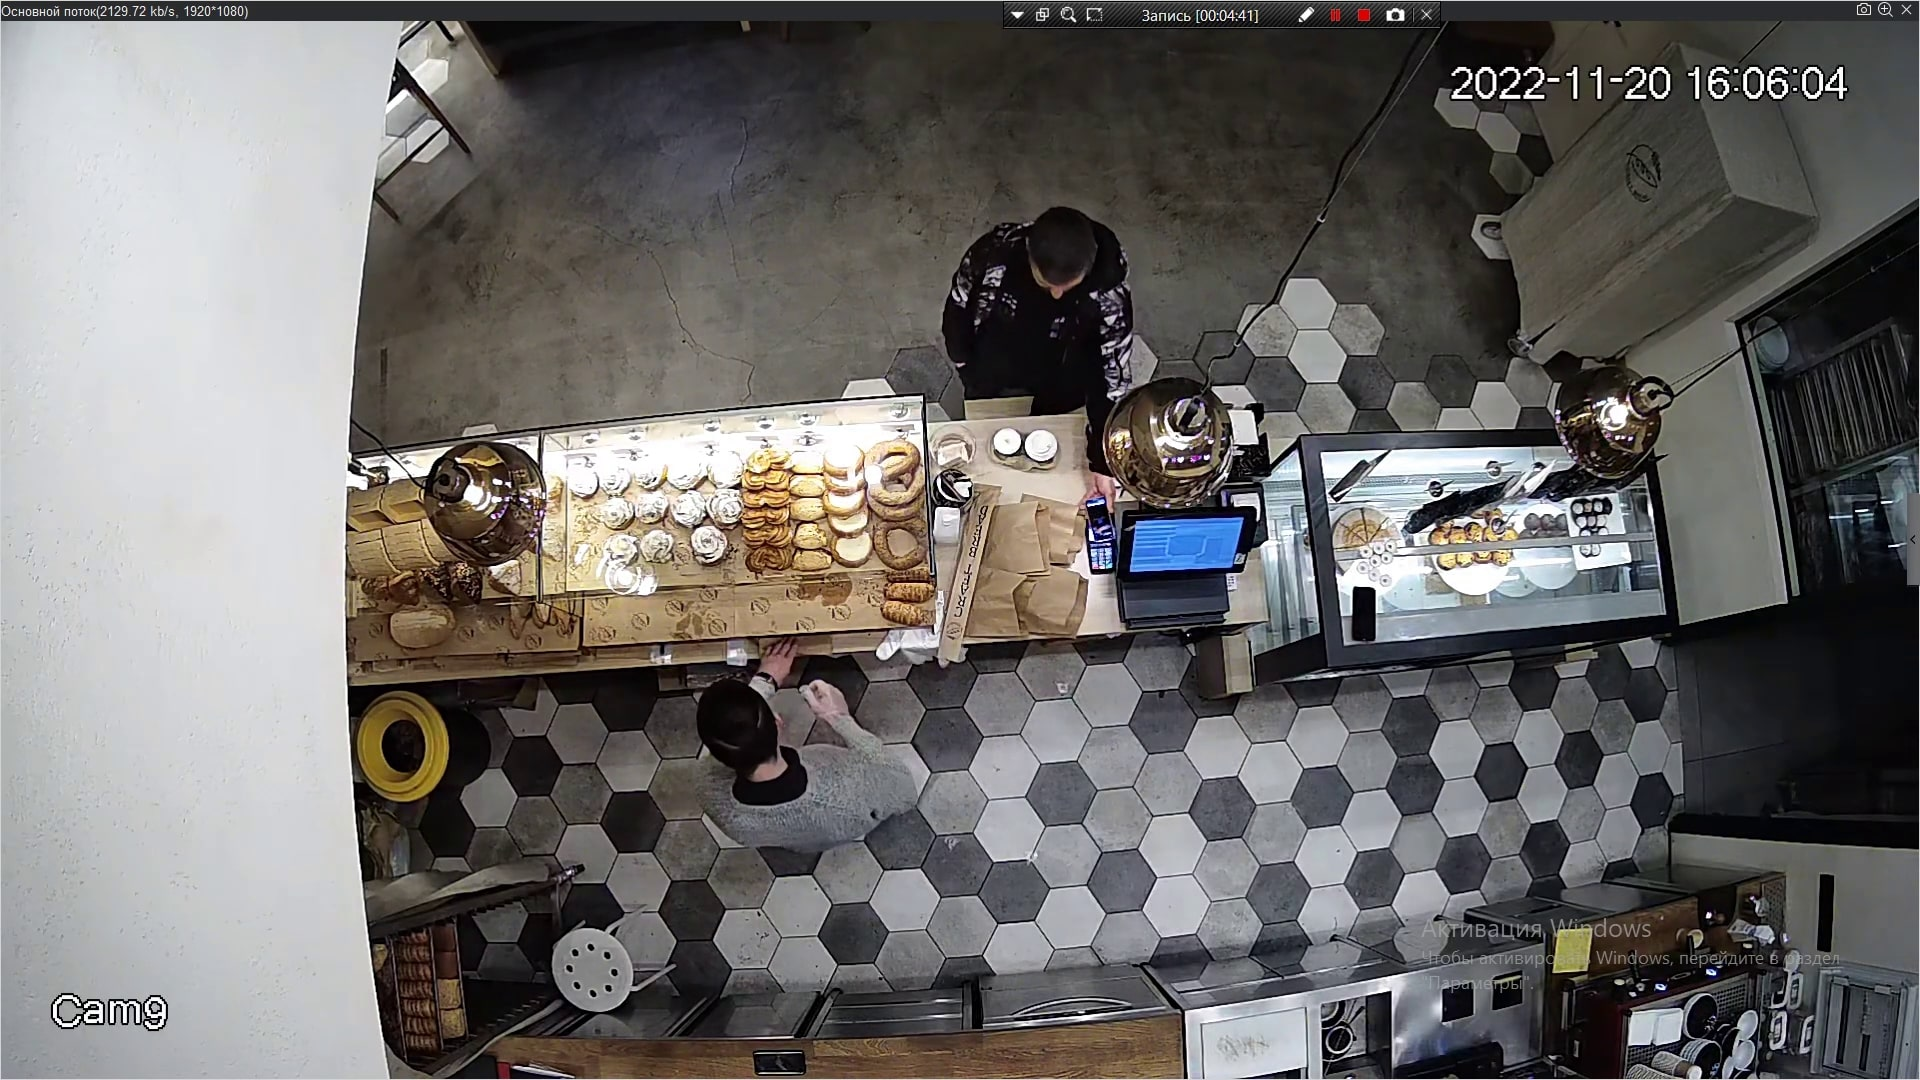barcounter: (364, 423, 1682, 673)
coffee: (991, 426, 1021, 455)
pack: (946, 486, 989, 652), (1021, 576, 1086, 637)
person: (932, 191, 1150, 416), (686, 689, 929, 850)
terminal: (1082, 447, 1123, 575)
